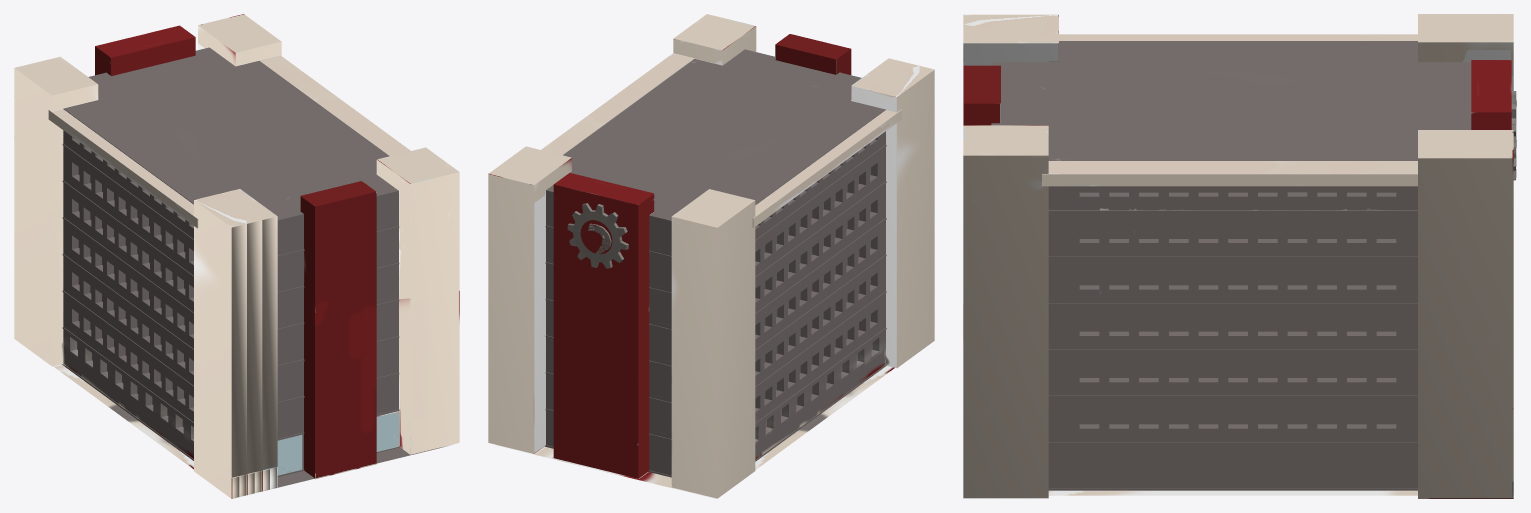
File: facultad de tecnologia.fbx
The picture shows the model from 3 angles, left to right: view 1: azimuth 30°, elevation 25°; view 2: azimuth 150°, elevation 25°; view 3: azimuth 270°, elevation 25°; orthographic projection. The views are drawn at different scales.
Visible parts, largest first — view 1: building_001; view 2: building_001; view 3: building_001.
Boxes of the visible parts, left/top/right/bottom form: building_001: left=14, top=14, right=459, bottom=498; building_001: left=488, top=14, right=934, bottom=498; building_001: left=963, top=14, right=1516, bottom=498.
Size of the model in its own units: 3421 by 3912 by 5623.
